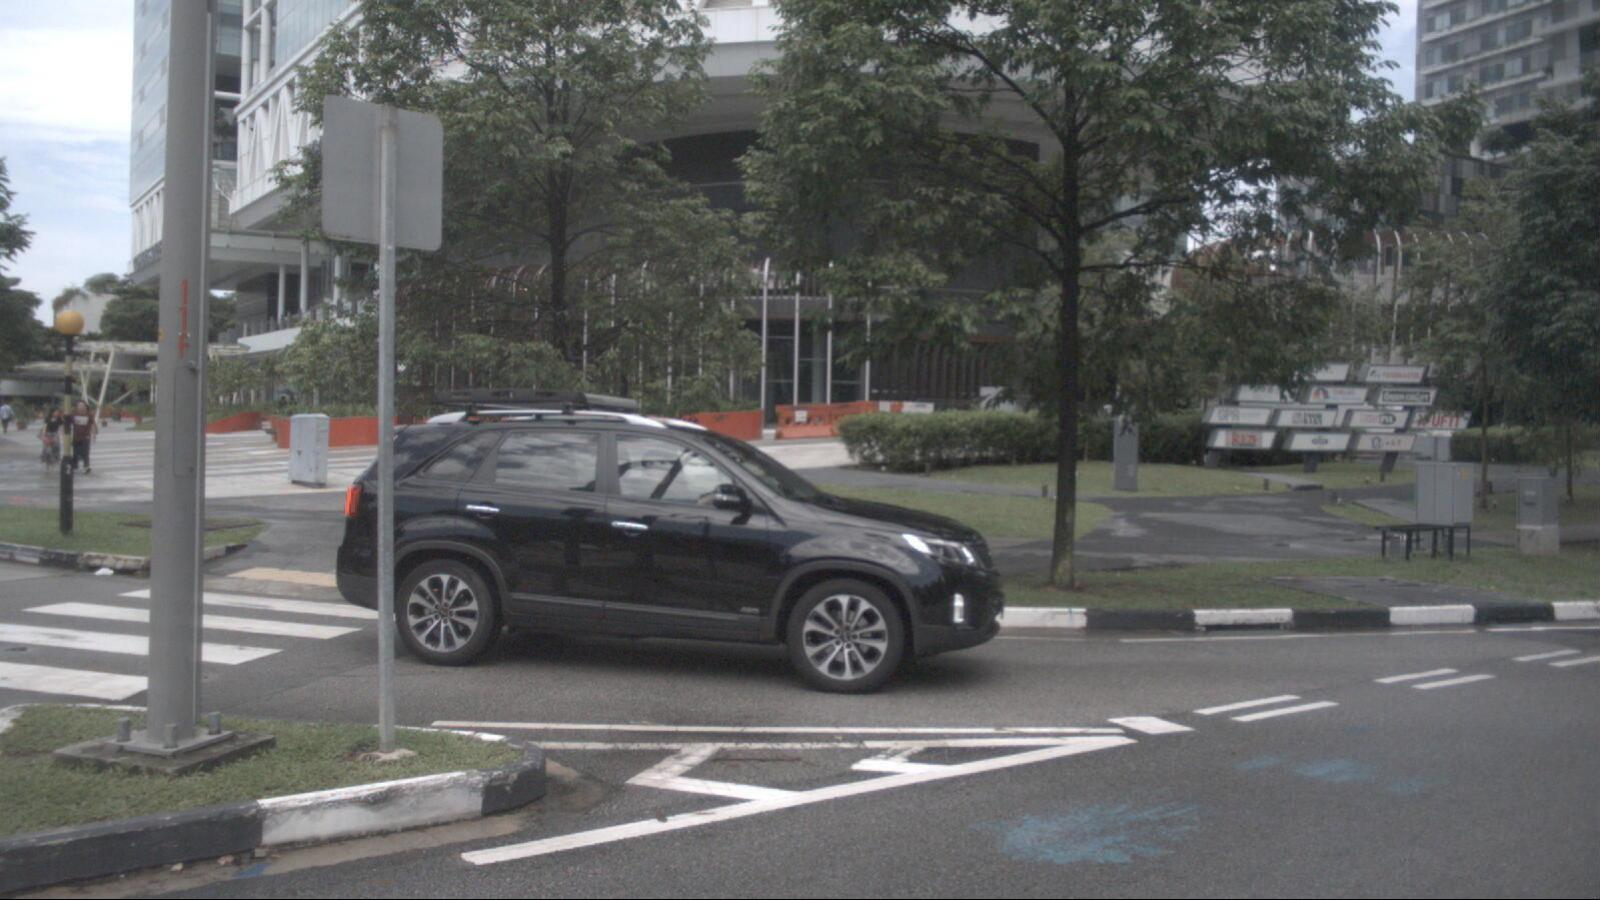human.pedestrian.adult-pedestrian.moving: (69, 400, 99, 475), (40, 405, 66, 477), (0, 400, 12, 434)
